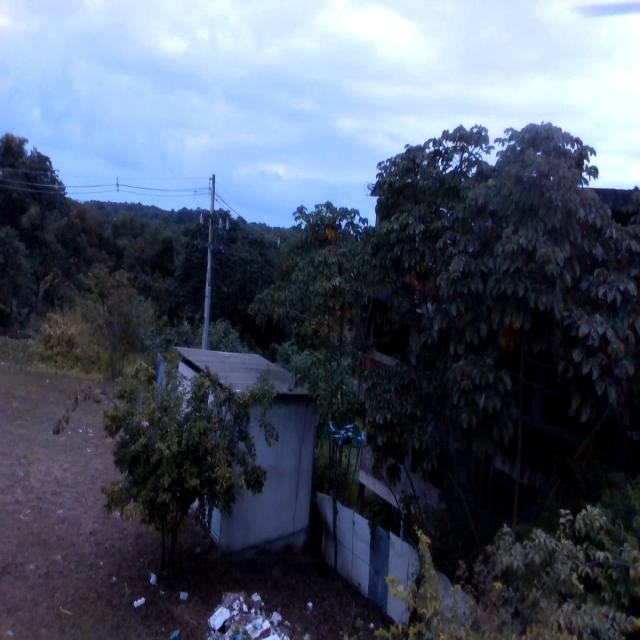-uav-: (321, 402, 374, 476)
